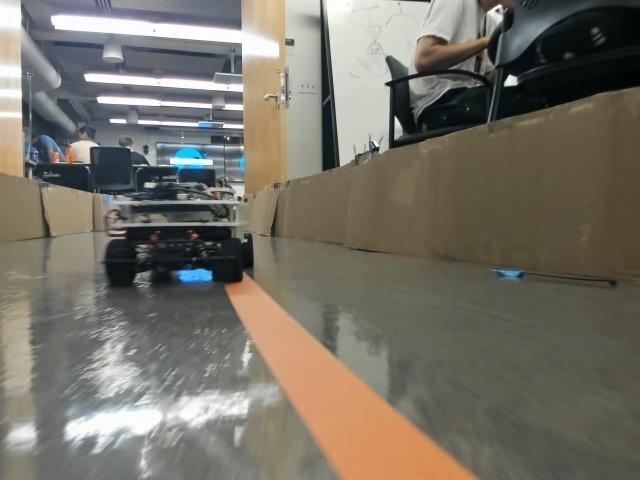Car: (103, 170, 255, 285)
